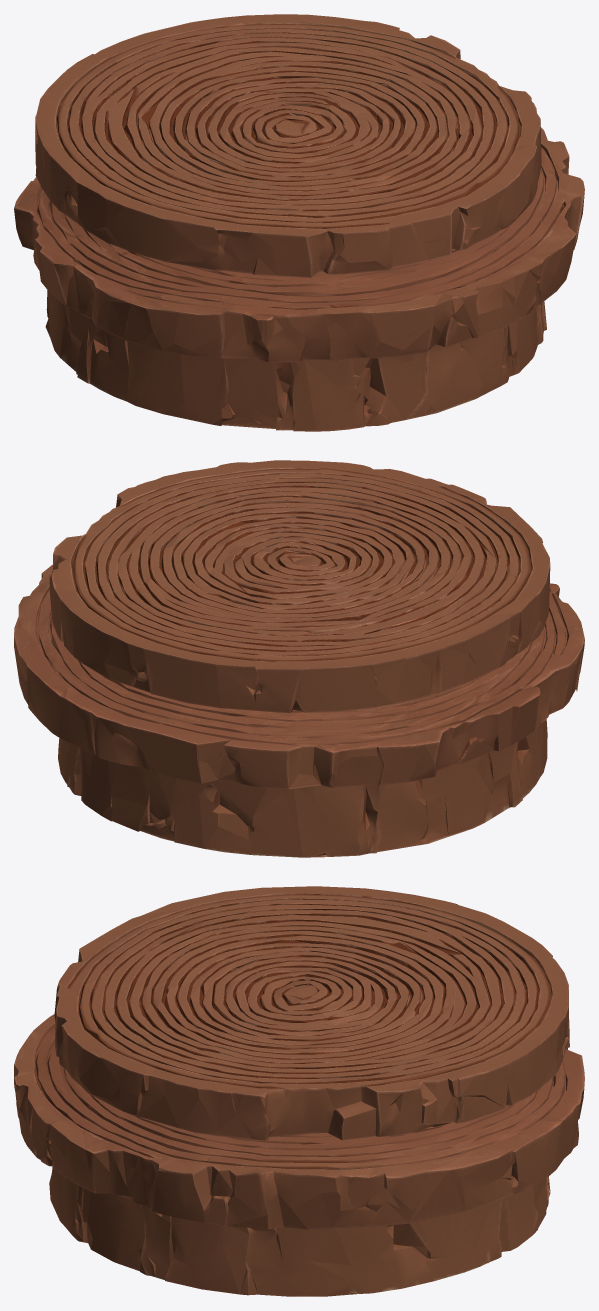
File: ITM_TREE_BARK_001.glb
3 views of the same model, one above another, from view 1: azimuth 30°, elevation 25°; view 2: azimuth 150°, elevation 25°; view 3: azimuth 270°, elevation 25° (orthographic).
Size of the model in its own units: 1.89 by 0.7387 by 1.9.
Materials: 1 (1 with a texture image).
